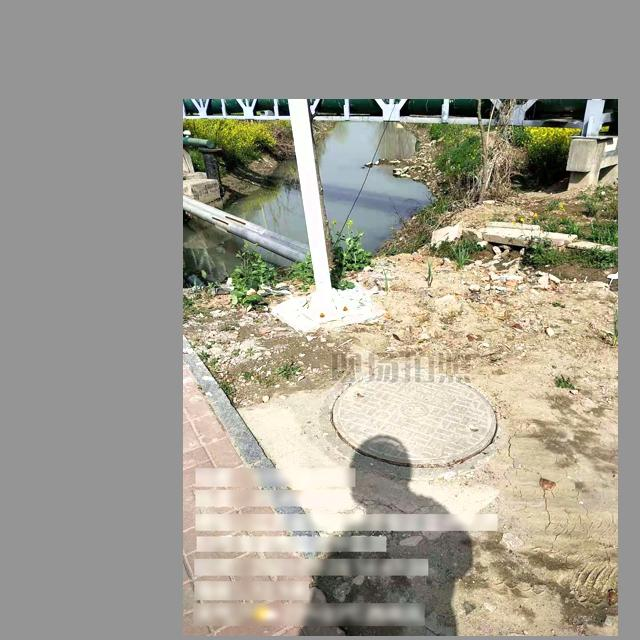good: (320, 368, 505, 478)
